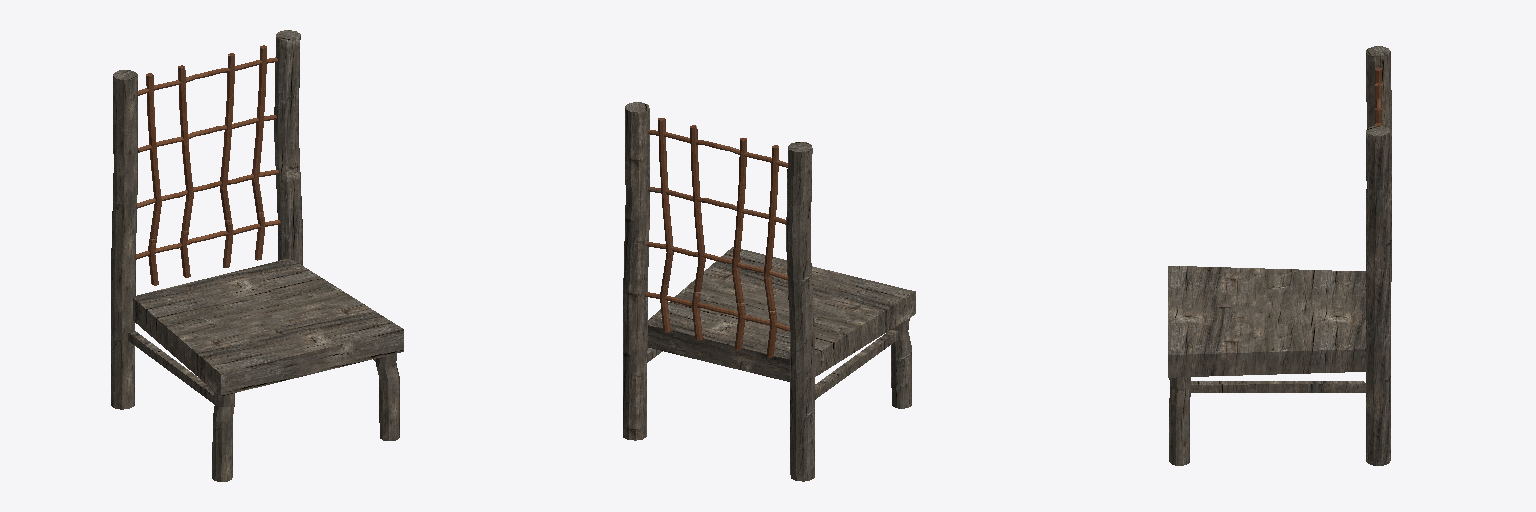
3 views of the same model, side by side, from view 1: azimuth 30°, elevation 25°; view 2: azimuth 150°, elevation 25°; view 3: azimuth 270°, elevation 25° (orthographic).
Visible parts, largest first — view 1: Silla_Plane; view 2: Silla_Plane; view 3: Silla_Plane.
Part boxes in pixels (left/top/right/bottom): Silla_Plane: left=111, top=30, right=403, bottom=481; Silla_Plane: left=623, top=102, right=915, bottom=481; Silla_Plane: left=1168, top=46, right=1391, bottom=465.
Size of the model in its own units: 1.66 by 2.77 by 1.71.
Materials: 1 (1 with a texture image).